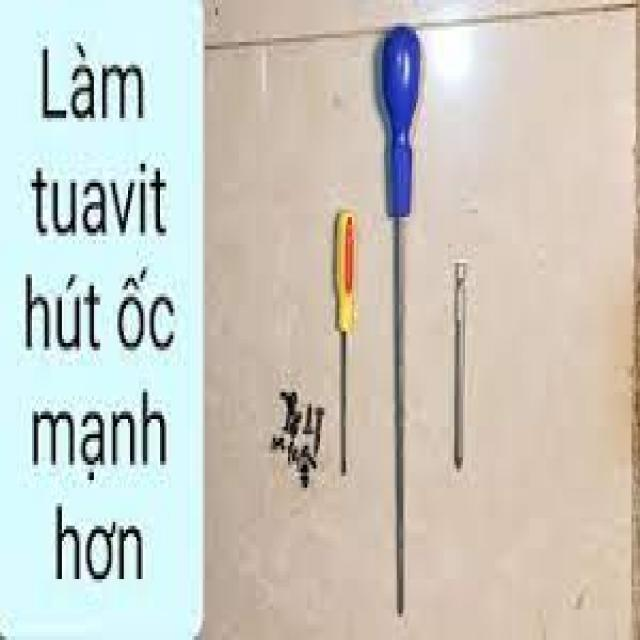screwdriver: (378, 13, 422, 619), (333, 208, 358, 482)
